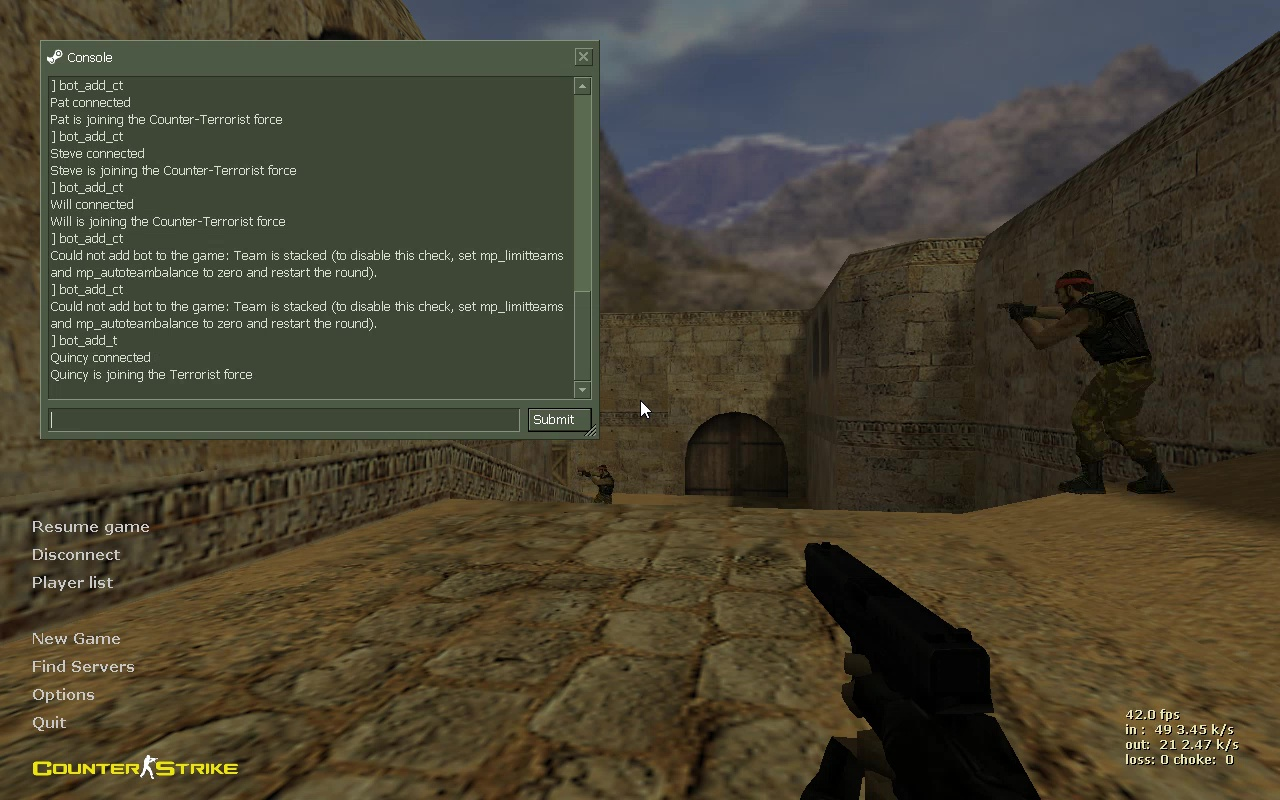terr1: (993, 269, 1174, 495), (575, 465, 617, 501)
